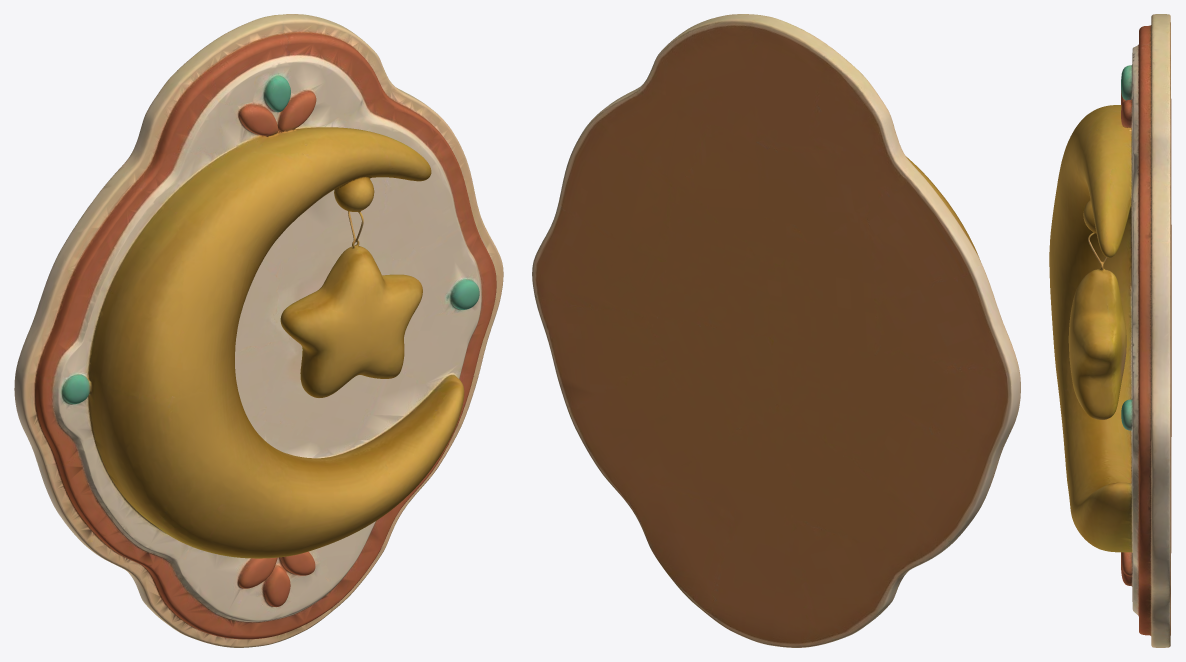
Rendered from Meshy_AI_model.glb.
The picture shows the model from 3 angles, left to right: view 1: azimuth 30°, elevation 25°; view 2: azimuth 150°, elevation 25°; view 3: azimuth 270°, elevation 25°; orthographic projection. The views are drawn at different scales.
Parts seen in each view (by area): view 1: mesh_node; view 2: mesh_node; view 3: mesh_node.
Boxes of the visible parts, x1,y1,x2,y2 form: mesh_node: (14, 14, 503, 647); mesh_node: (532, 14, 1020, 647); mesh_node: (1049, 14, 1171, 647).
Bounding box in the file's own units: 1.54 × 1.9 × 0.3452.
1 material, 1 textured.
